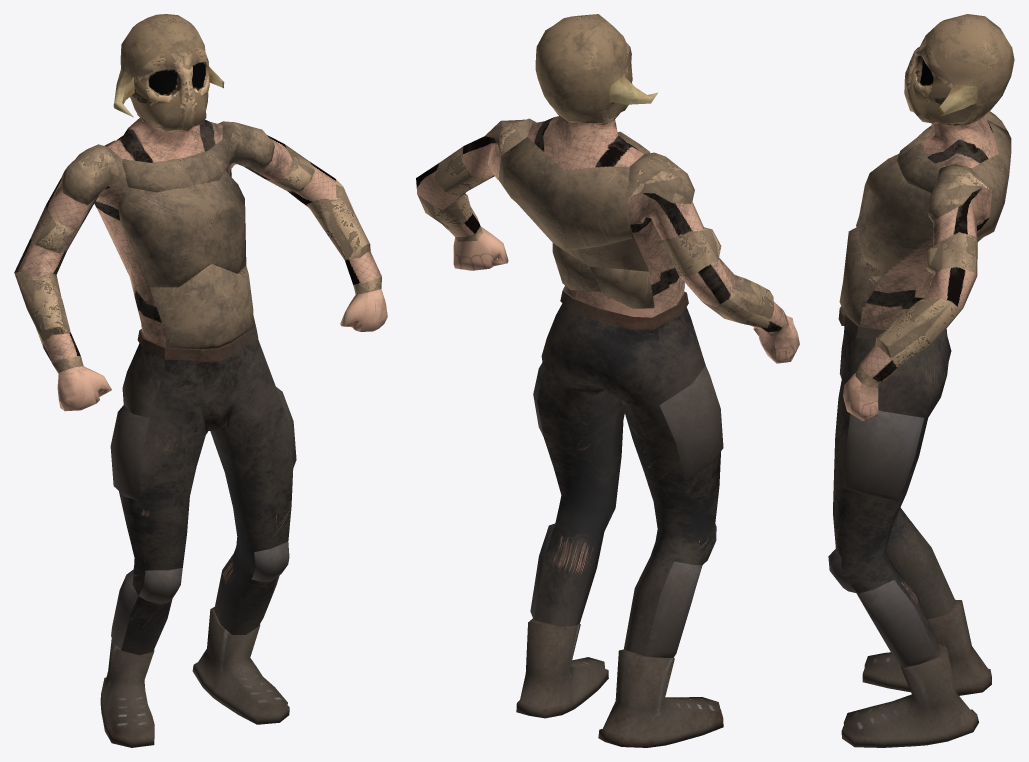
Rendered from Anim_morir_npc1.0014.obj.
3 renders of one model, left to right at view 1: azimuth 30°, elevation 25°; view 2: azimuth 150°, elevation 25°; view 3: azimuth 270°, elevation 25°, orthographic. The views are drawn at different scales.
Visible parts, largest first — view 1: NPC2; view 2: NPC2; view 3: NPC2.
Boxes of the visible parts, x1=… form: NPC2: x1=14, y1=14, x2=387, y2=747; NPC2: x1=416, y1=14, x2=799, y2=747; NPC2: x1=828, y1=14, x2=1014, y2=747.
Bounding box in the file's own units: 4.61 × 9.22 × 2.24.
